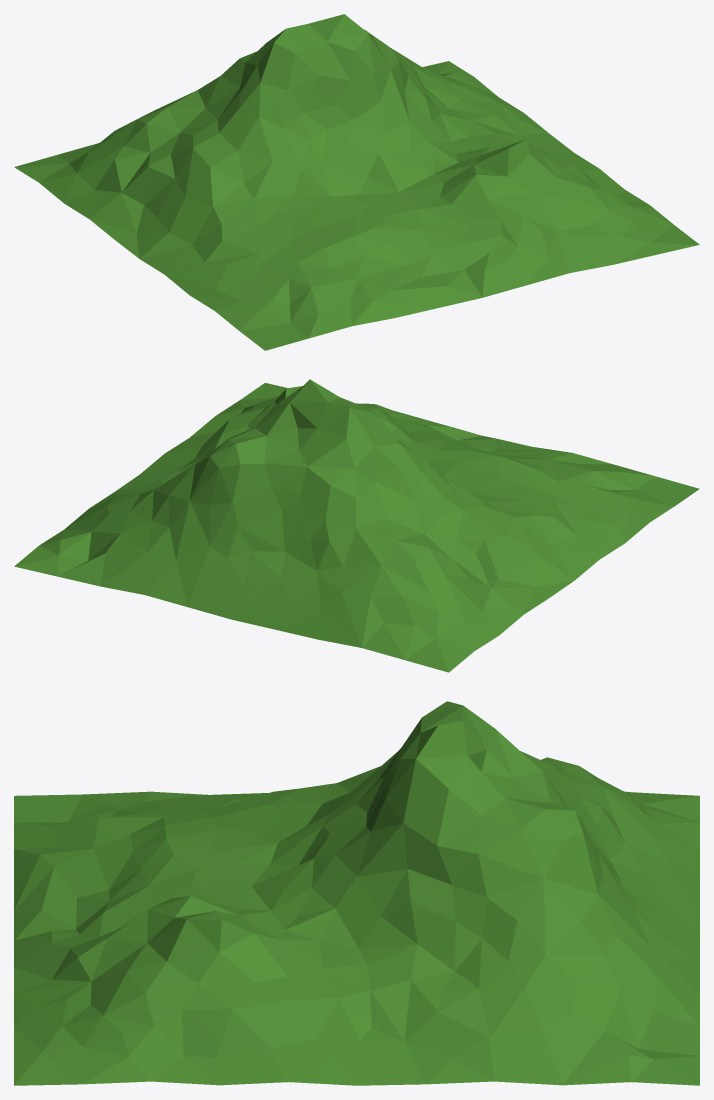
The model's file is terrains_terrain-mountains.fbx.
3 views of the same model, one above another, from view 1: azimuth 30°, elevation 25°; view 2: azimuth 150°, elevation 25°; view 3: azimuth 270°, elevation 25° (orthographic). The views are drawn at different scales.
Parts seen in each view (by area): view 1: terrains_terrain_mountains; view 2: terrains_terrain_mountains; view 3: terrains_terrain_mountains.
Boxes of the visible parts, <box> form: terrains_terrain_mountains: <box>14,14,699,350</box>; terrains_terrain_mountains: <box>14,379,699,672</box>; terrains_terrain_mountains: <box>14,701,699,1085</box>.
Size of the model in its own units: 200 by 72.93 by 200.
